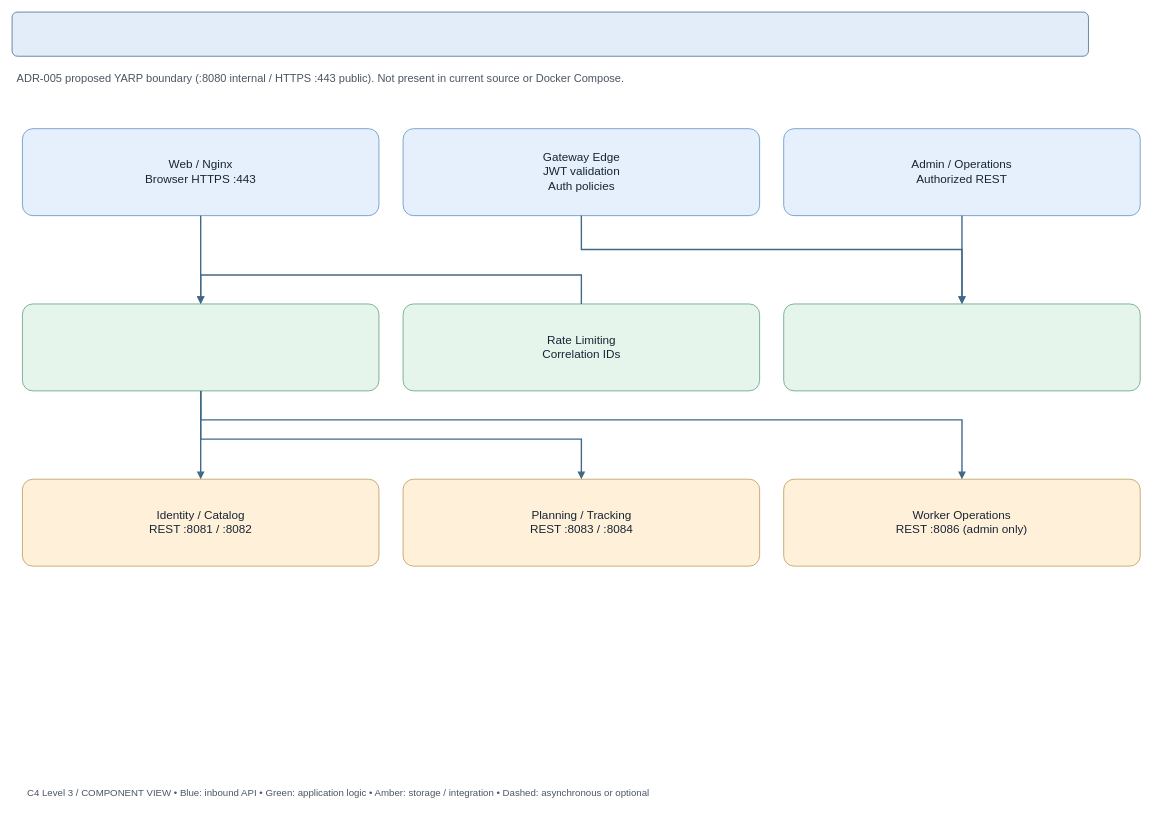
The diagram is 1152 pixels wide and 815 high, and some of its shapes have lost their labels. Each missing label, with the box of its shape:
Authorization Middleware Route-based policies: (783, 303, 1140, 391)
C2-01 API GATEWAY — TARGET: (11, 11, 1088, 56)
YARP Route Table Service discovery: (22, 303, 379, 391)
